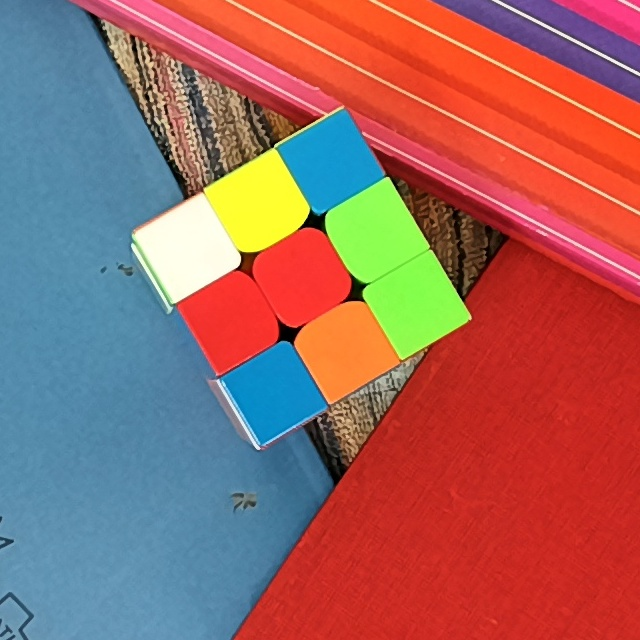tile: (317, 318, 374, 377), (345, 202, 401, 261), (387, 277, 444, 334), (204, 289, 259, 347), (274, 249, 329, 306), (246, 365, 301, 421), (302, 135, 356, 191), (232, 177, 284, 233), (160, 220, 212, 274)
